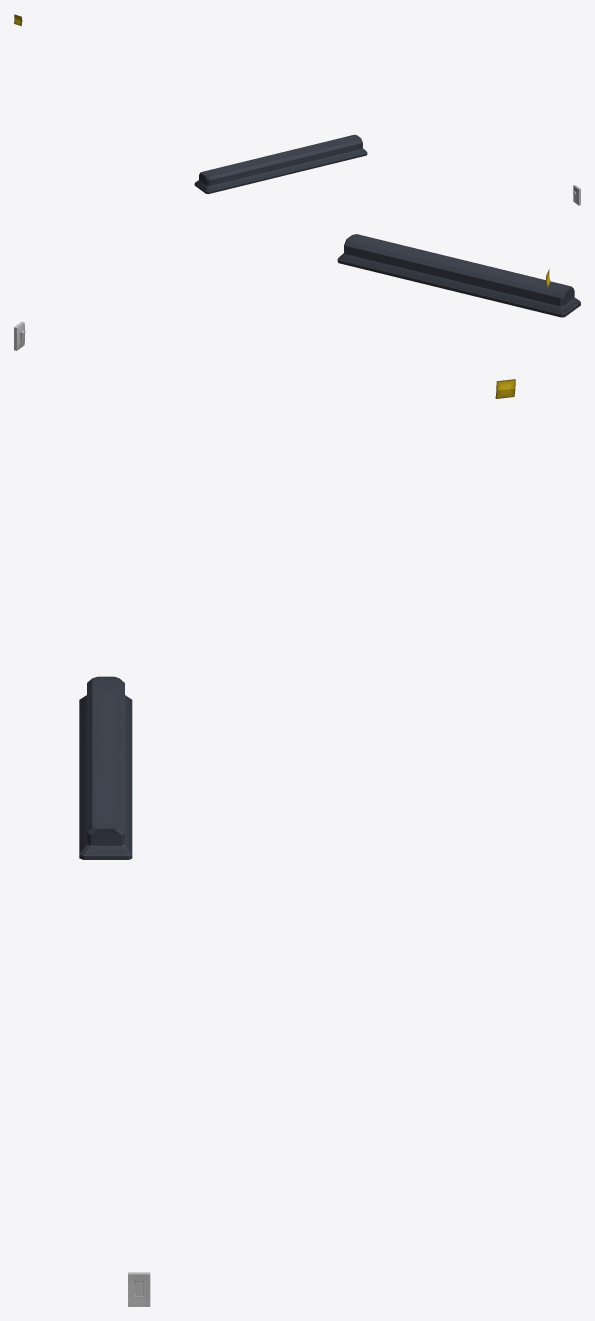
File: InterruptorLuz.fbx
3 views of the same model, one above another, from view 1: azimuth 30°, elevation 25°; view 2: azimuth 150°, elevation 25°; view 3: azimuth 270°, elevation 25° (orthographic). The views are drawn at different scales.
Visible parts, largest first — view 1: Cube.049; view 2: Cube.049, Cube.047; view 3: Cube.049.
Boxes of the visible parts, box(x1,y1,x2,y2) form: Cube.049: box(194, 134, 367, 193); Cube.049: box(337, 234, 580, 317); Cube.047: box(14, 321, 24, 350); Cube.049: box(79, 676, 132, 859).
Bounding box in the file's own units: 970 × 463 × 389.
